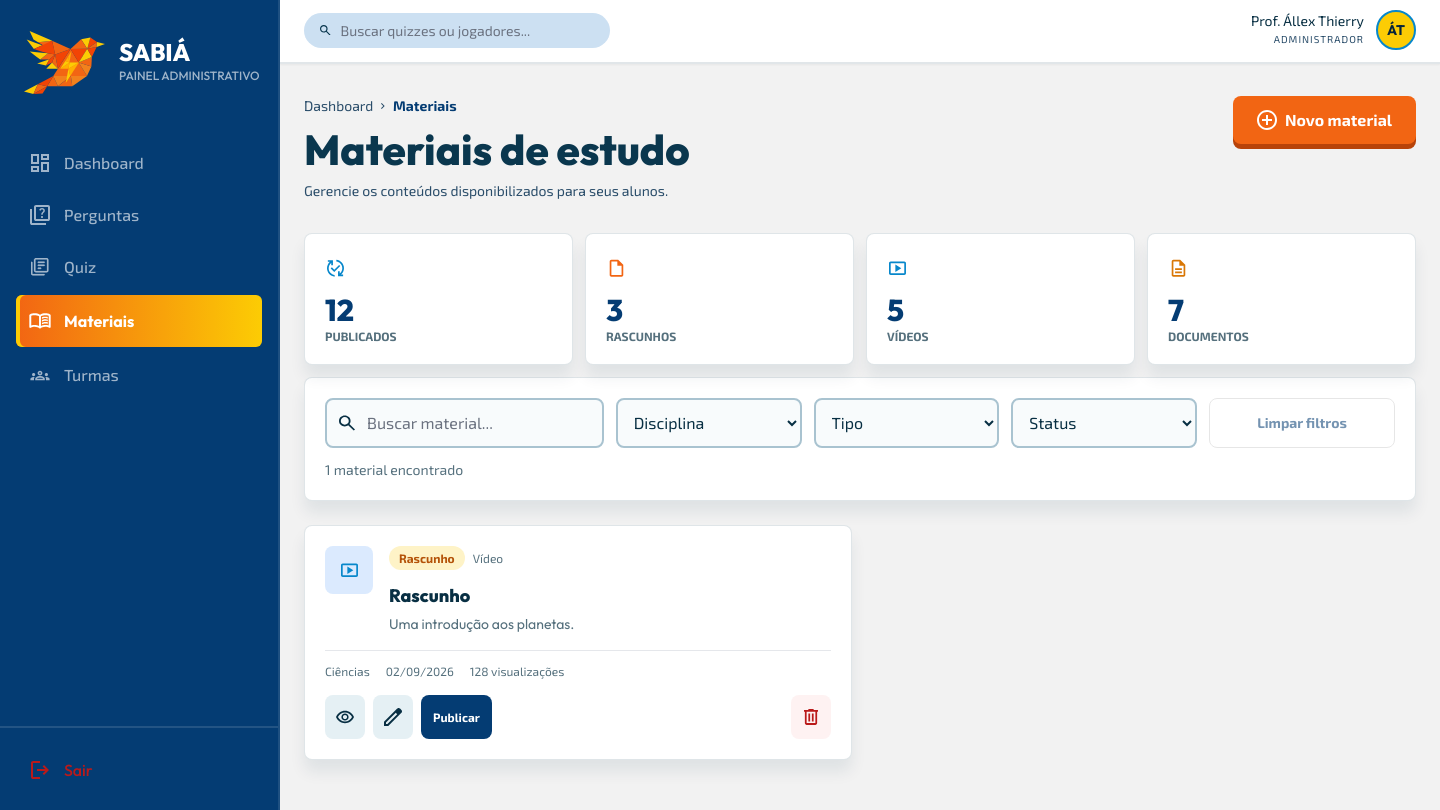
Test case: Materiais de estudo (professor) › publicar sem turma mostra o motivo
Click the button "Publicar" at {"x": 456, "y": 717}, box [421,695,492,739]
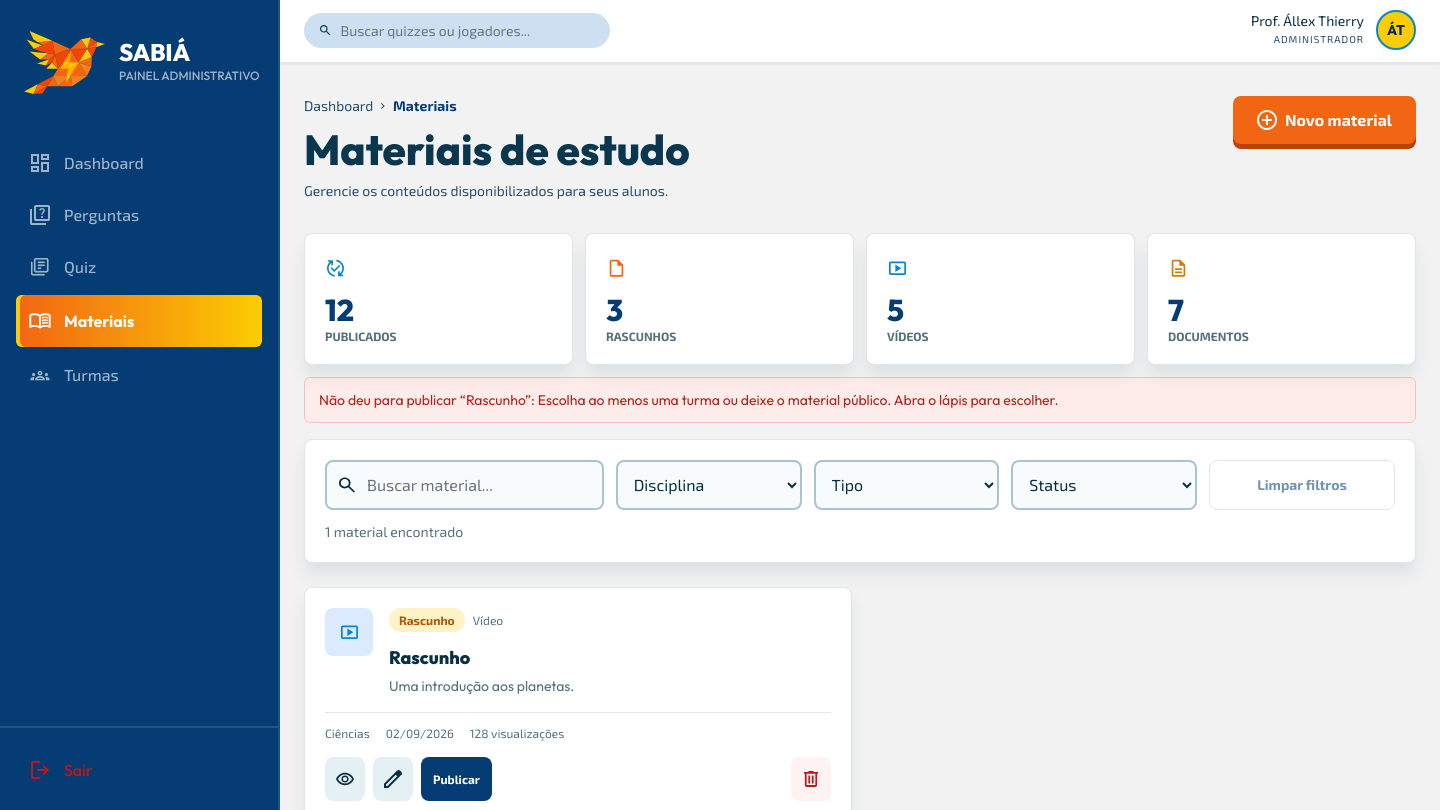
expect the message shows "Escolha ao menos uma turma ou deixe o material público.": met, box [319,391,1058,409]
